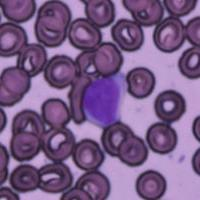L: (81, 72, 128, 128)
